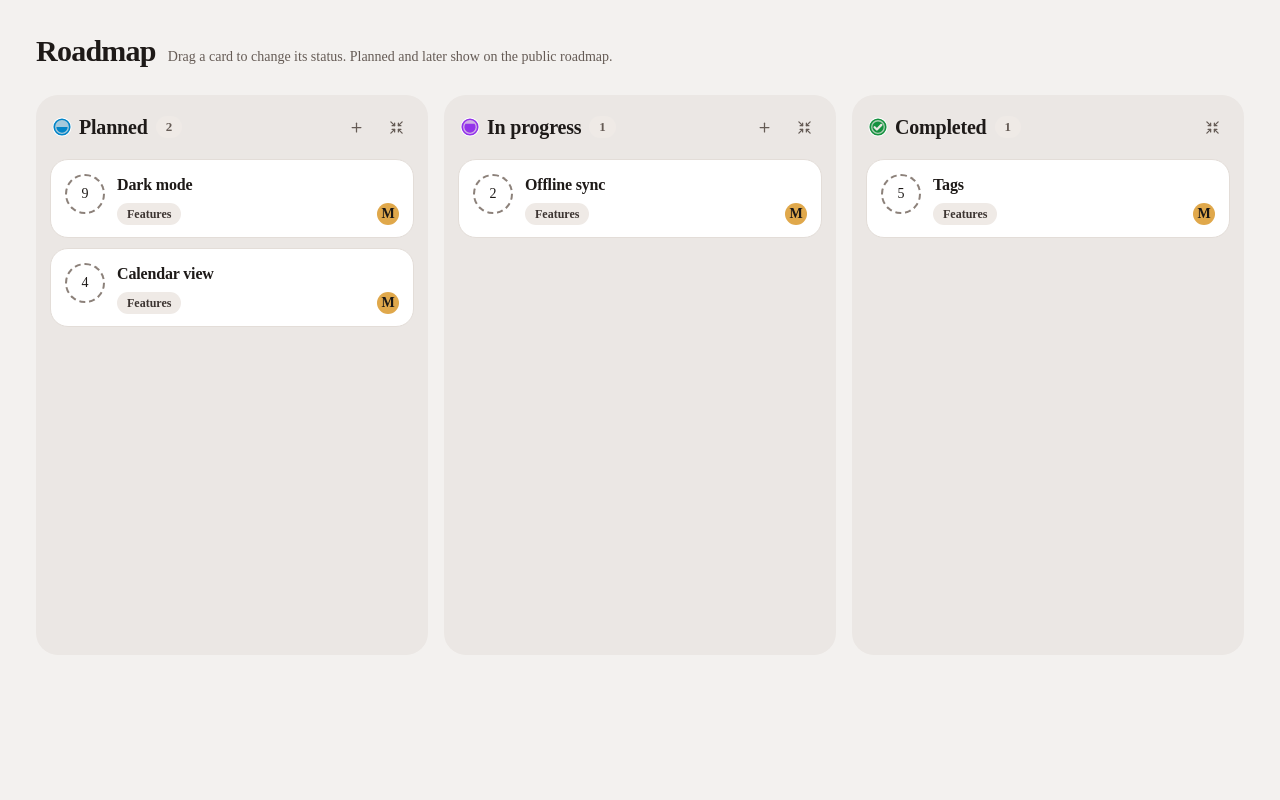
Test: RoadmapBoard › collapses with a button on the column
Check: the heading "Dark mode" is shown, box [117,176,192,193]
Click the button named "Collapse Planned".
click(396, 127)  # box [380,111,412,143]
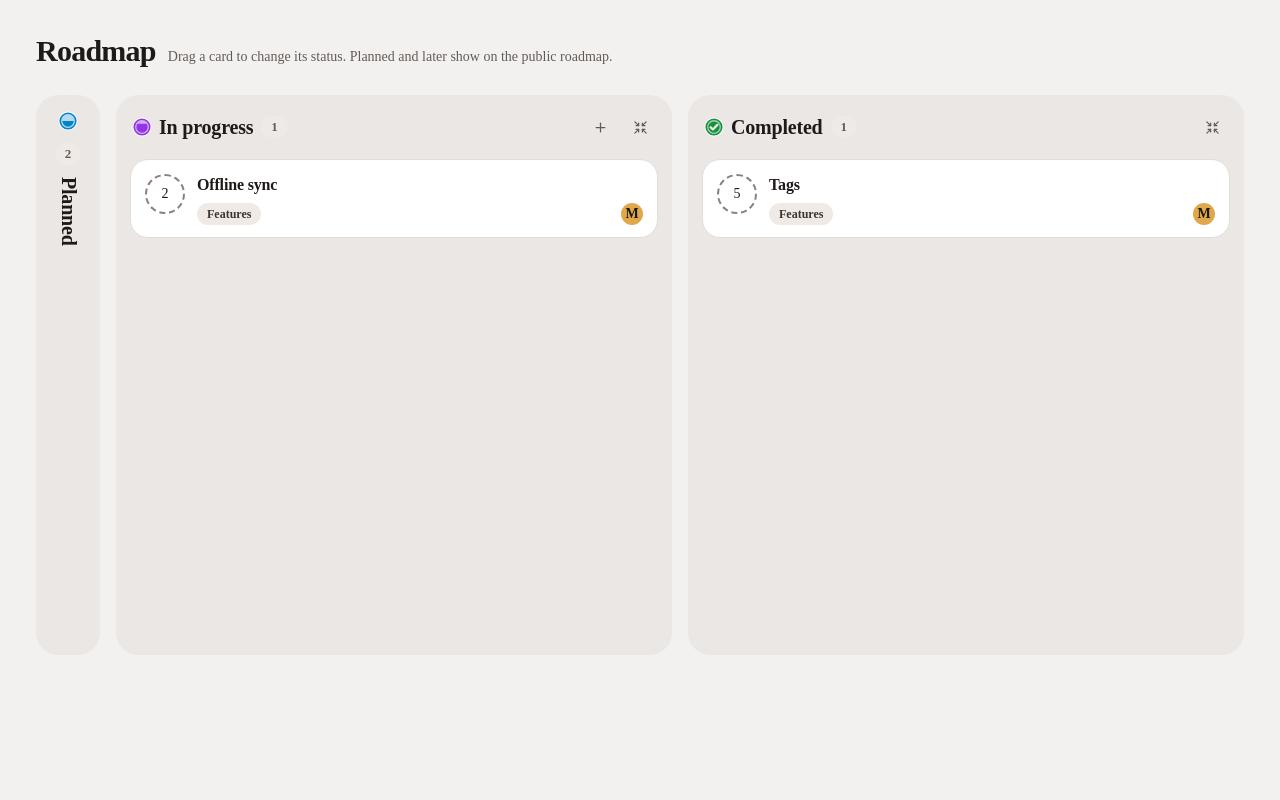
Check: the button with aria-label "Planned, 2 requests. Expand" is shown, box [36,95,100,655]
